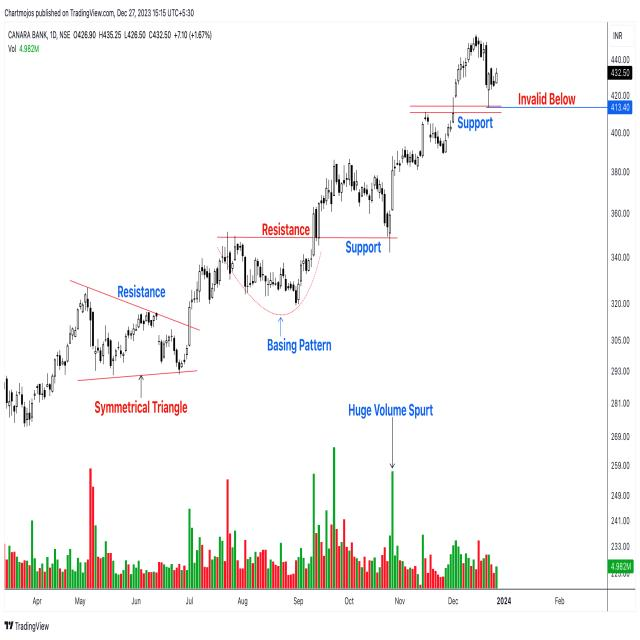Rounding-Top: (308, 152, 392, 233)
